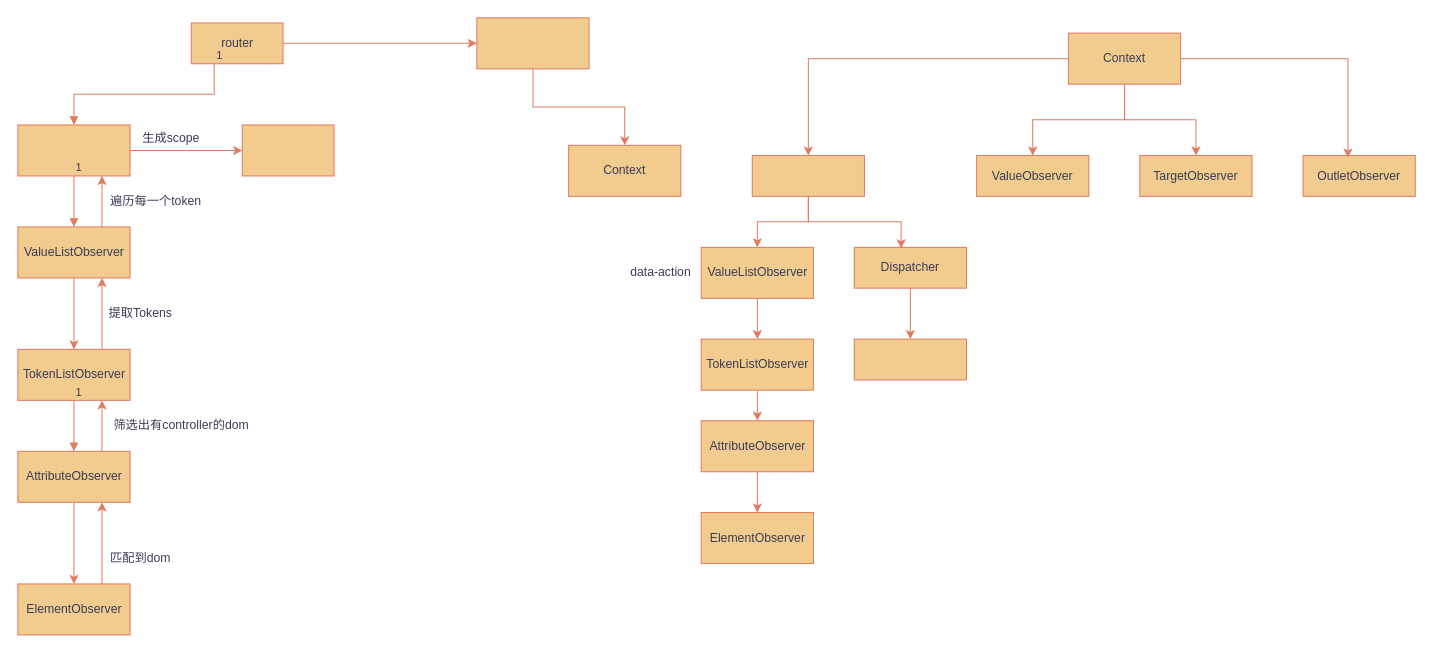
Image size: 1433x653. Some labels were removed from this diagram. The centre of each missing label's shape, as x and y in pixels:
"BindingObserver" belongs at (807,175).
"EventListener" belongs at (909,359).
"Module" belongs at (532,43).
"ScopeObserver" belongs at (73,150).
